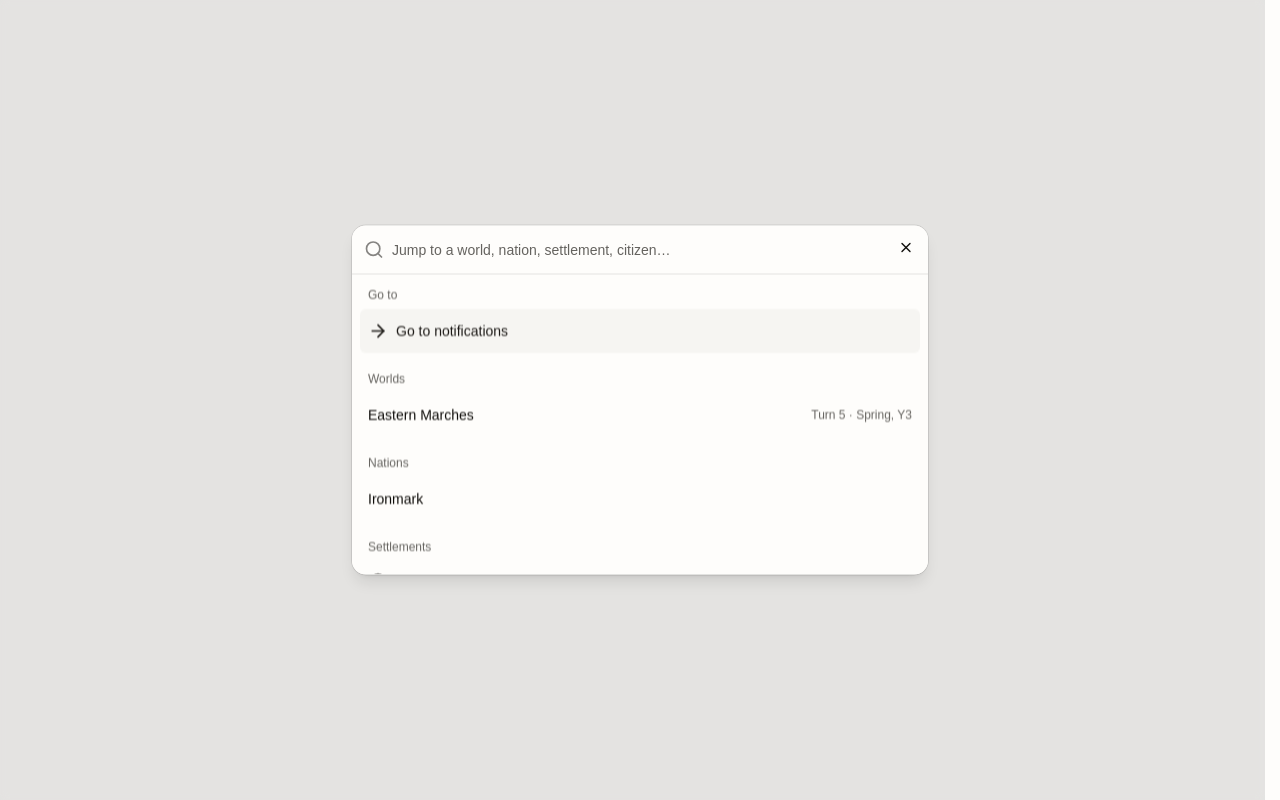
Test: CommandPalette › filters results and searches citizens after the search debounce
Type "Alaric" into the dropdown with placeholder "Jump to a world, nation, settlement, citizen…" at (654,250), box [392,226,916,274]
Wait 200 ms
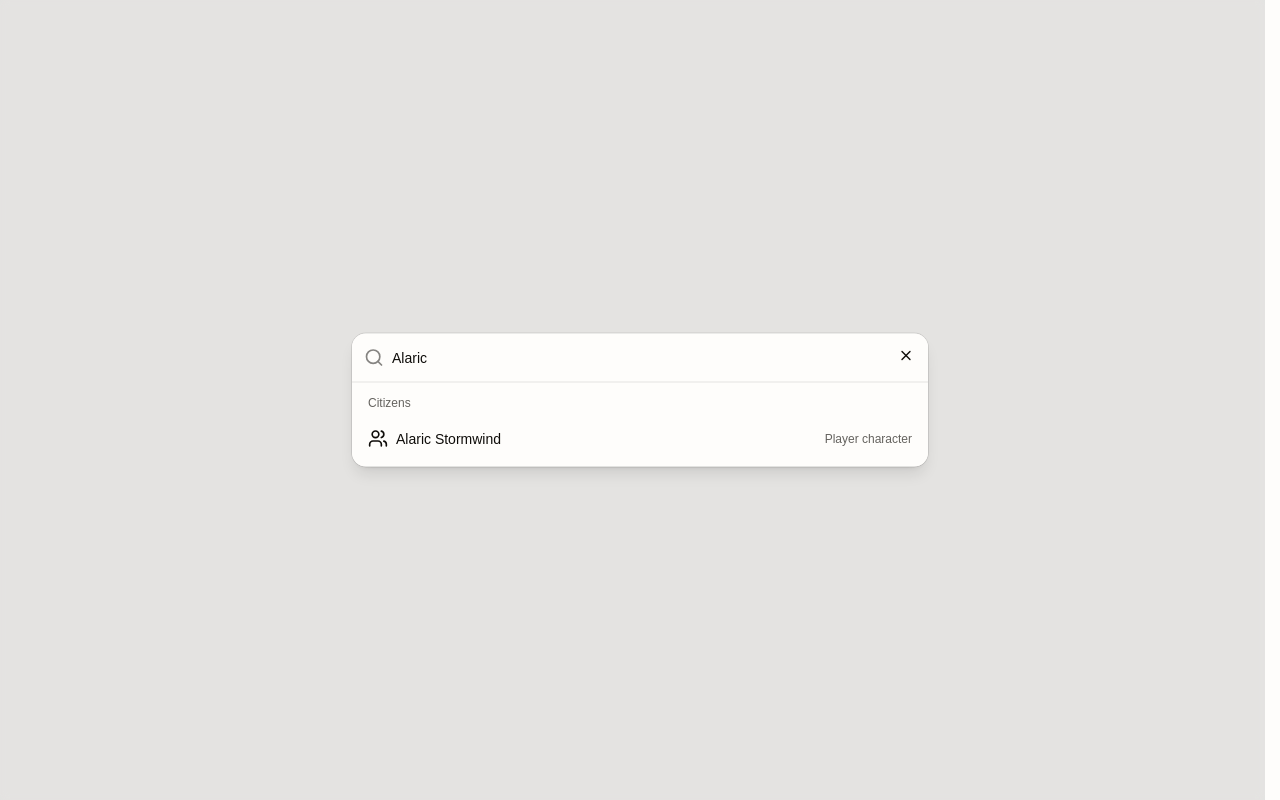
Expected: the text "Alaric Stormwind" is shown, [396,430,501,446]
Expected: the option "Ironmark" is gone
